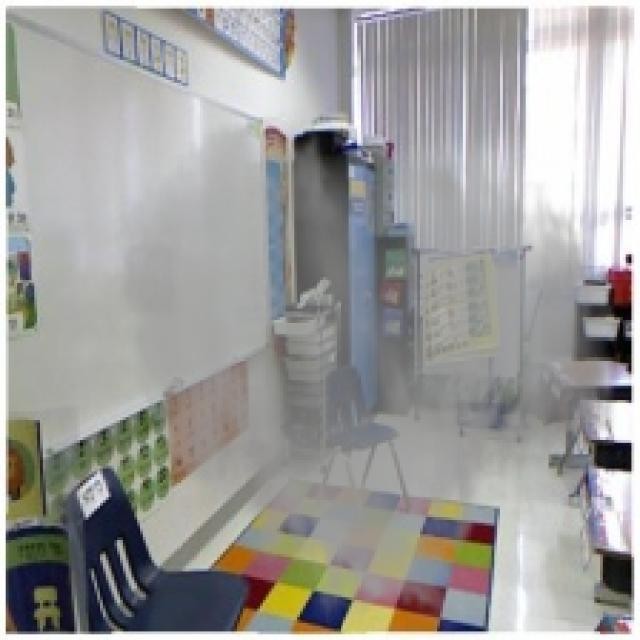Smoke: (108, 112, 623, 638)
